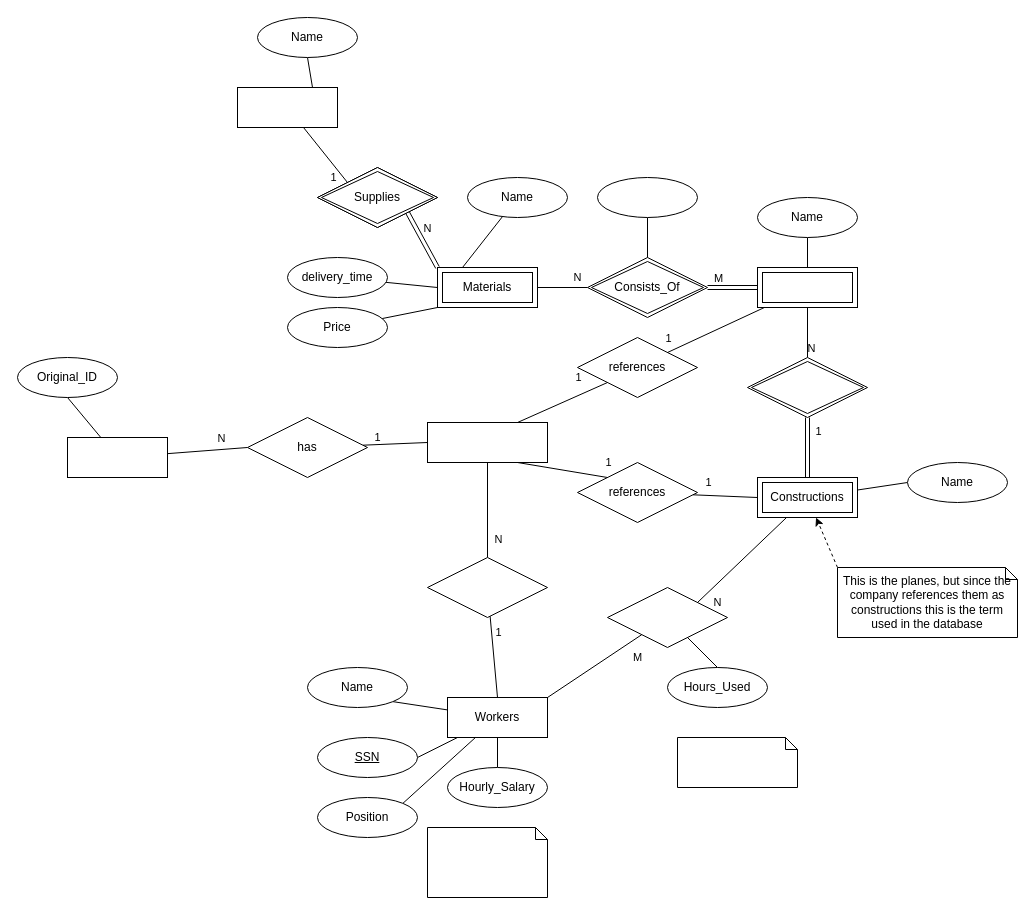
Some shapes in this 1035 by 915 pixel diagram are drawn without their labels. The shapes that lost their labels are listed below. From the top down, each one's box as (x1, y1, x2, y2) in pixels, then its label:
(236, 86, 338, 128): Supplier
(596, 176, 698, 218): amount
(756, 266, 858, 308): Components
(746, 356, 868, 418): Relationship
(66, 436, 168, 478): old_versions
(426, 422, 548, 462): Technical_Drawings
(426, 556, 548, 618): uploads
(606, 586, 728, 648): worked on
(676, 736, 798, 788): 1 worker can work on multiple constructions
(426, 826, 548, 898): Assuming that the Stellar Airframes Inc. pays hourly wage to their workers
